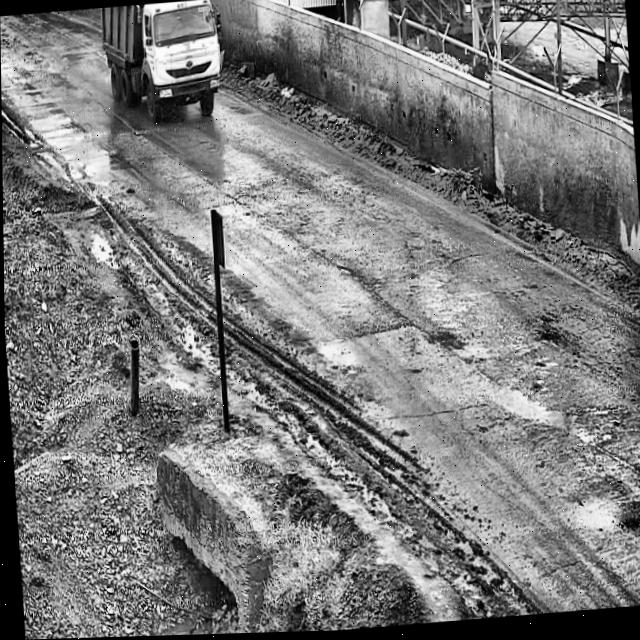dump_truck: (105, 0, 219, 114)
